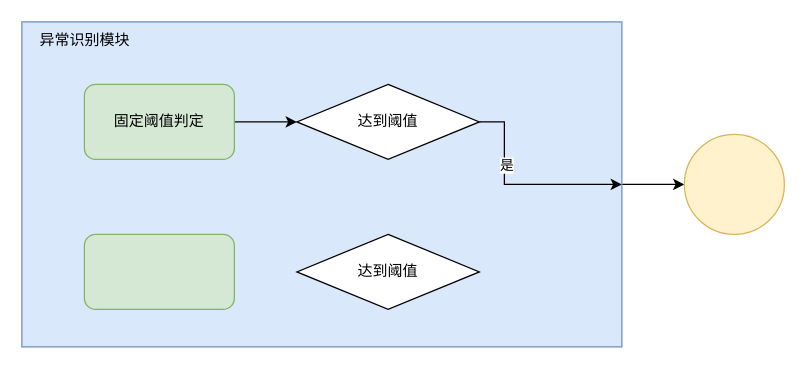
Some shapes in this 806 by 369 pixel diagram are drawn without their labels. The box of each missing label's shape, as (x1, y1, x2, y2) in pixels:
人工智能模型: (83, 233, 234, 309)
异常处理 模块: (683, 133, 784, 234)
